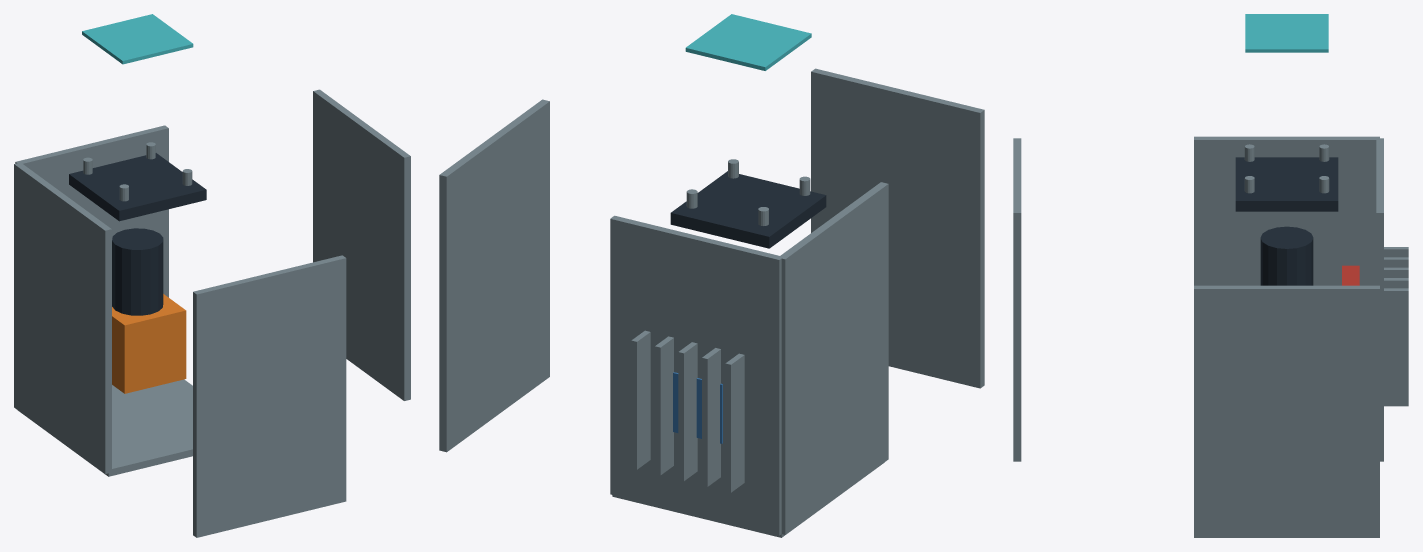
The model's file is housing_forward.obj.
The picture shows the model from 3 angles, left to right: view 1: azimuth 30°, elevation 25°; view 2: azimuth 150°, elevation 25°; view 3: azimuth 270°, elevation 25°; orthographic projection. The views are drawn at different scales.
Parts seen in each view (by area): view 1: CAM_FRONT_top_2, CAM_FRONT_left_0, CAM_FRONT_right_1, CAM_FRONT_rear_4, CAM_FRONT_5, CAM_FRONT_bottom_3, CAM_FRONT_seal_10, CAM_FRONT_lens_6, CAM_FRONT_window_7; view 2: CAM_FRONT_top_2, CAM_FRONT_bottom_3, CAM_FRONT_right_1, CAM_FRONT_left_0, CAM_FRONT_seal_10, CAM_FRONT_window_7, CAM_FRONT_rib_15, CAM_FRONT_rib_19, CAM_FRONT_rib_17, CAM_FRONT_rib_16, CAM_FRONT_rib_18, CAM_FRONT_TEC_9; view 3: CAM_FRONT_right_1, CAM_FRONT_left_0, CAM_FRONT_seal_10, CAM_FRONT_window_7, CAM_FRONT_lens_6, CAM_FRONT_rib_19, CAM_FRONT_top_2, CAM_FRONT_bottom_3.
Part boxes in pixels (x1=…): CAM_FRONT_top_2: x1=193, y1=255, x2=346, y2=537; CAM_FRONT_left_0: x1=14, y1=163, x2=111, y2=473; CAM_FRONT_right_1: x1=313, y1=89, x2=410, y2=400; CAM_FRONT_rear_4: x1=18, y1=379, x2=192, y2=476; CAM_FRONT_5: x1=112, y1=294, x2=186, y2=393; CAM_FRONT_bottom_3: x1=15, y1=125, x2=168, y2=297; CAM_FRONT_seal_10: x1=69, y1=153, x2=206, y2=221; CAM_FRONT_lens_6: x1=112, y1=228, x2=163, y2=315; CAM_FRONT_window_7: x1=82, y1=14, x2=193, y2=64; CAM_FRONT_top_2: x1=811, y1=68, x2=984, y2=388; CAM_FRONT_bottom_3: x1=610, y1=215, x2=782, y2=535; CAM_FRONT_right_1: x1=439, y1=99, x2=549, y2=452; CAM_FRONT_left_0: x1=778, y1=182, x2=888, y2=534; CAM_FRONT_seal_10: x1=670, y1=171, x2=826, y2=248; CAM_FRONT_window_7: x1=685, y1=14, x2=811, y2=70; CAM_FRONT_rib_15: x1=725, y1=353, x2=744, y2=492; CAM_FRONT_rib_19: x1=631, y1=330, x2=650, y2=469; CAM_FRONT_rib_17: x1=678, y1=342, x2=697, y2=481; CAM_FRONT_rib_16: x1=702, y1=348, x2=720, y2=486; CAM_FRONT_rib_18: x1=655, y1=336, x2=673, y2=475; CAM_FRONT_TEC_9: x1=673, y1=372, x2=722, y2=443; CAM_FRONT_right_1: x1=1194, y1=285, x2=1379, y2=537; CAM_FRONT_left_0: x1=1194, y1=136, x2=1379, y2=285; CAM_FRONT_seal_10: x1=1235, y1=157, x2=1338, y2=211; CAM_FRONT_window_7: x1=1245, y1=14, x2=1328, y2=52; CAM_FRONT_lens_6: x1=1260, y1=226, x2=1313, y2=285; CAM_FRONT_rib_19: x1=1384, y1=288, x2=1408, y2=406; CAM_FRONT_top_2: x1=1013, y1=138, x2=1021, y2=461; CAM_FRONT_bottom_3: x1=1376, y1=138, x2=1383, y2=461.
Size of the model in its own units: 0.368 by 0.446 by 0.403.
